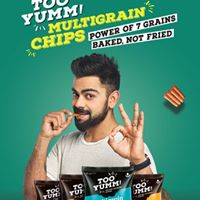plastic: (132, 175, 162, 199), (62, 174, 87, 200), (37, 180, 64, 200)
tooyumm: (23, 1, 85, 27), (91, 174, 121, 191), (126, 176, 153, 194), (69, 181, 89, 196), (43, 185, 64, 199)
wrapper: (85, 168, 134, 200)
